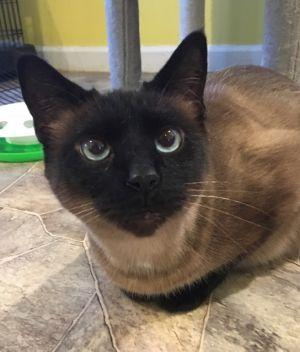siamese: (16, 26, 222, 242)
